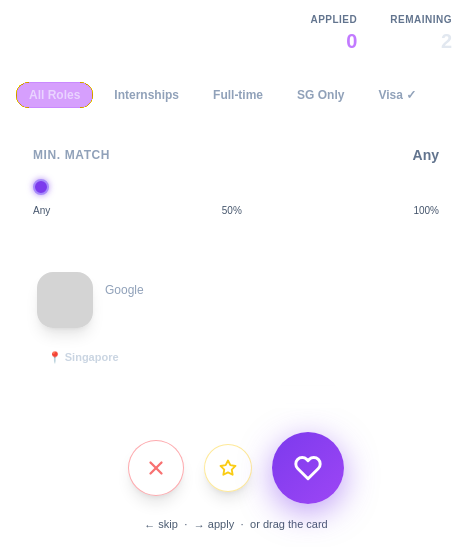
Test: SwipeStack states › cycles to the next saved job when pressing the star button from saved mode
expect the text with test id "job-company" reads "Google": met, box [105, 283, 144, 297]
What coordinates should you click on to do the following:
click the button named "Save job"
I would click on:
 (228, 468)
Its box is [204, 444, 252, 492].
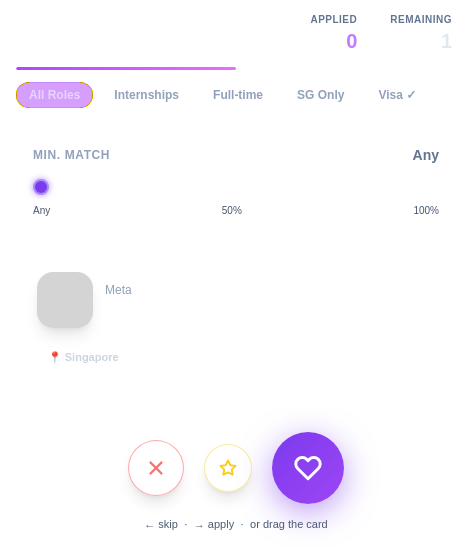
expect the text with test id "job-company" reads "Meta": met, box [105, 283, 132, 297]
